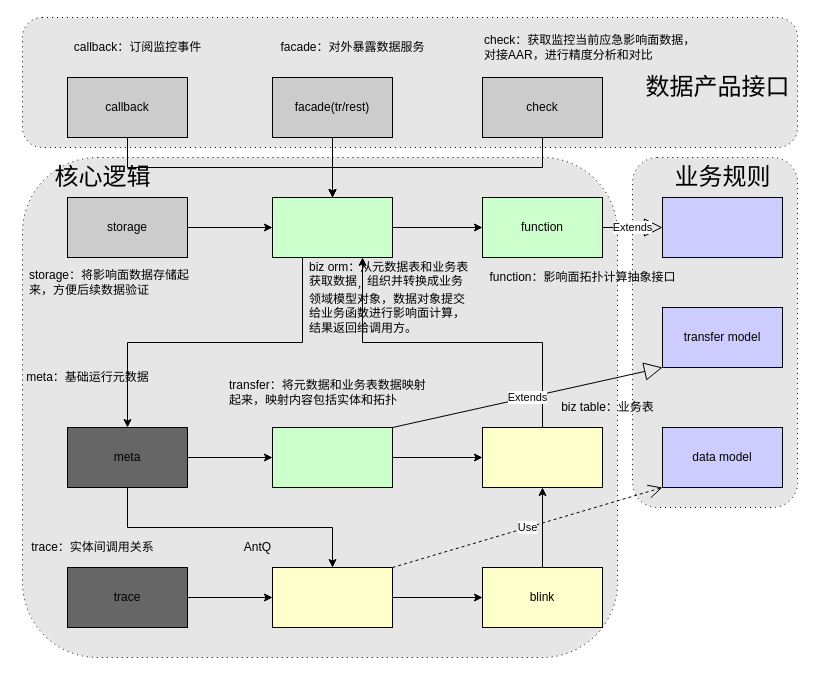
Some shapes in this 815 by 675 pixel diagram are drawn without their labels. The box of each missing label's shape, as (x1, y1, x2, y2) in pixels:
biz function: (662, 196, 782, 258)
biz orm: (272, 196, 392, 258)
biz table: (482, 426, 602, 488)
blink sql: (272, 566, 392, 628)
transfer: (272, 426, 392, 488)
